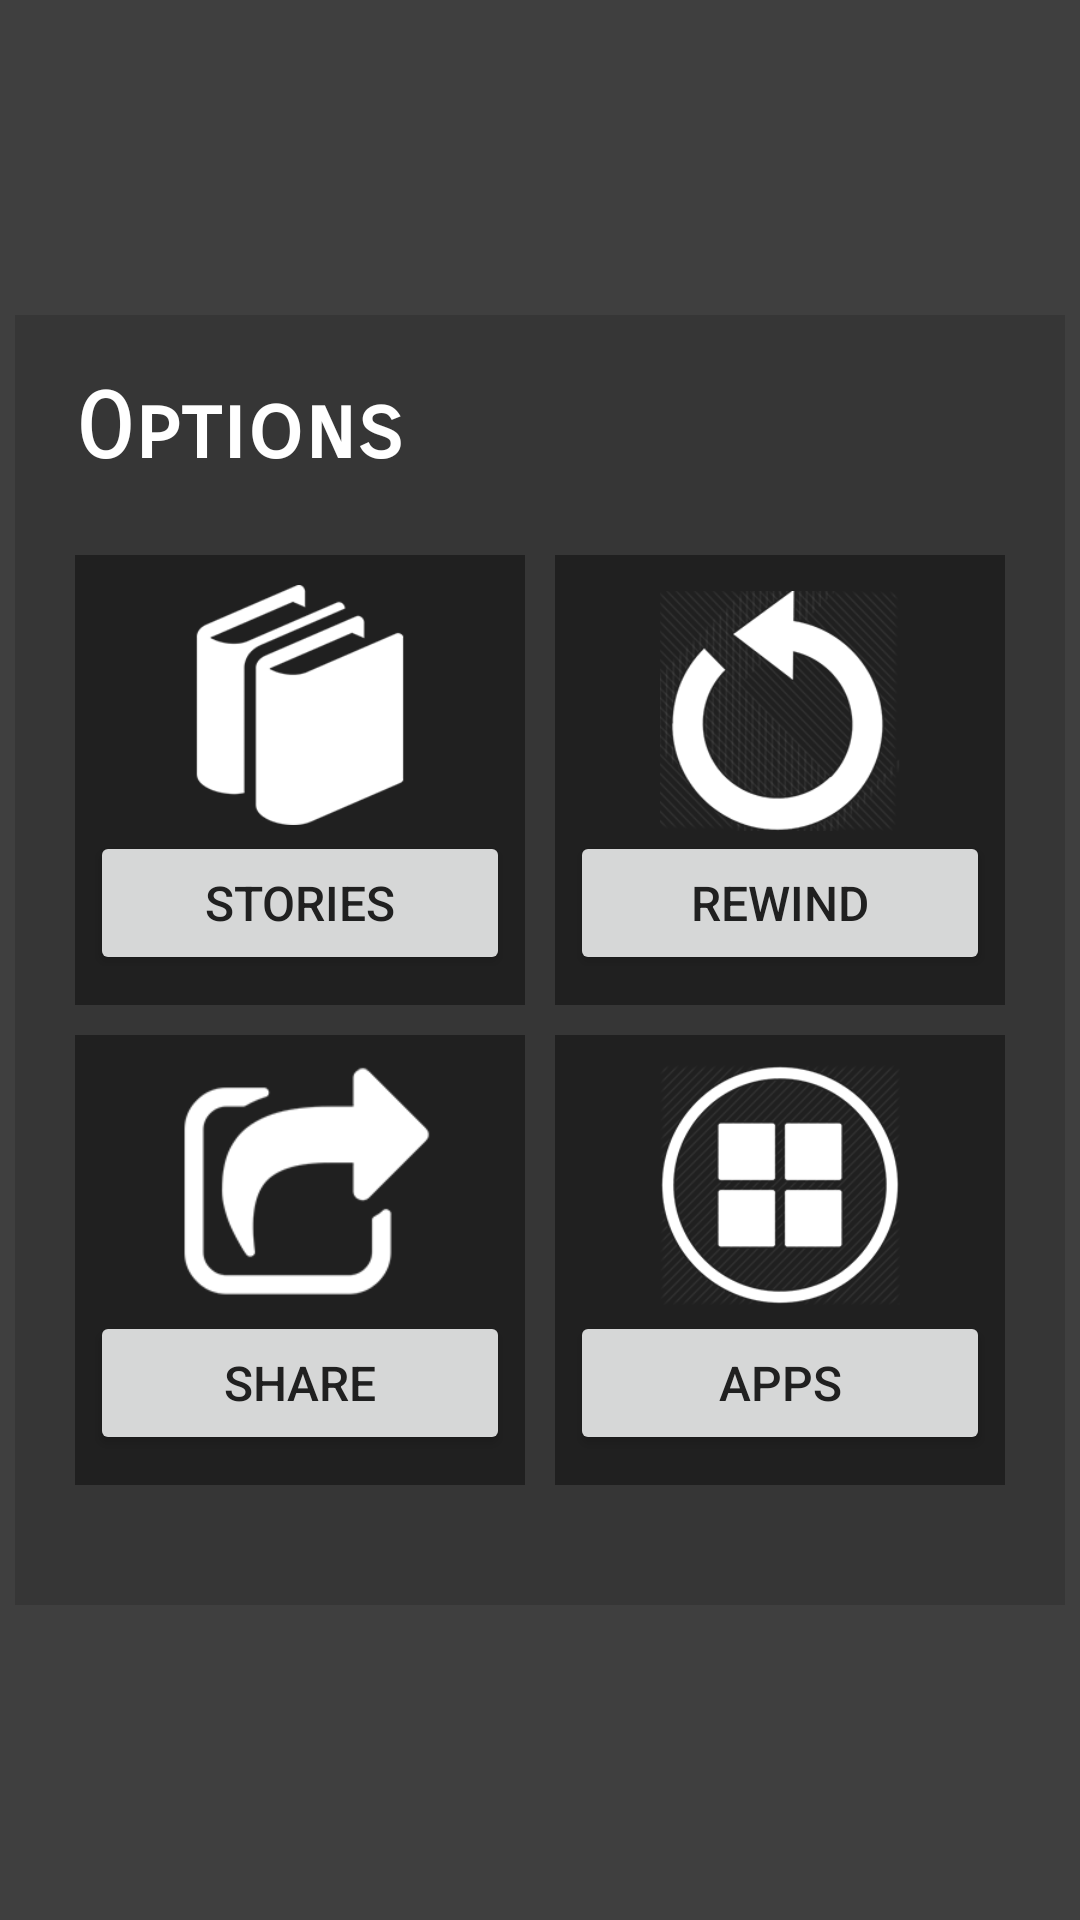

Icon click points for this 1080 × 1920 phone screenshot, format point (x, y):
bookstackicon: point (300, 705)
